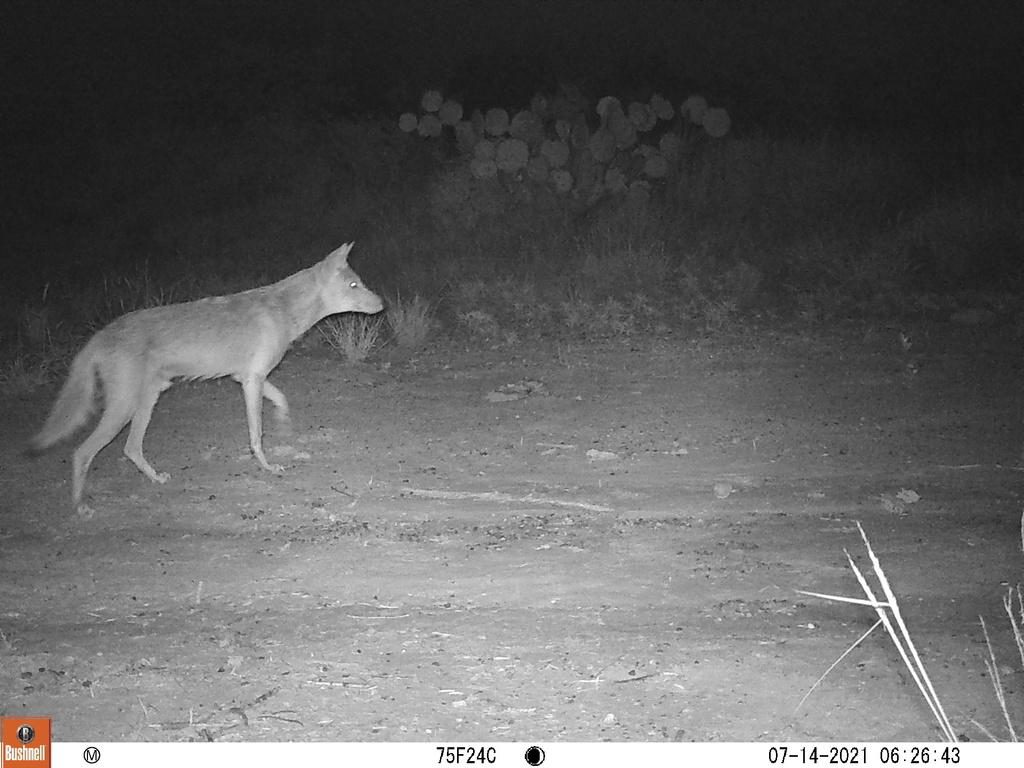Coyote: (18, 235, 395, 523)
